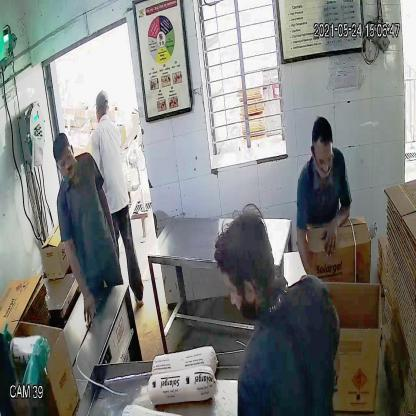goggles: (56, 146, 74, 172)
